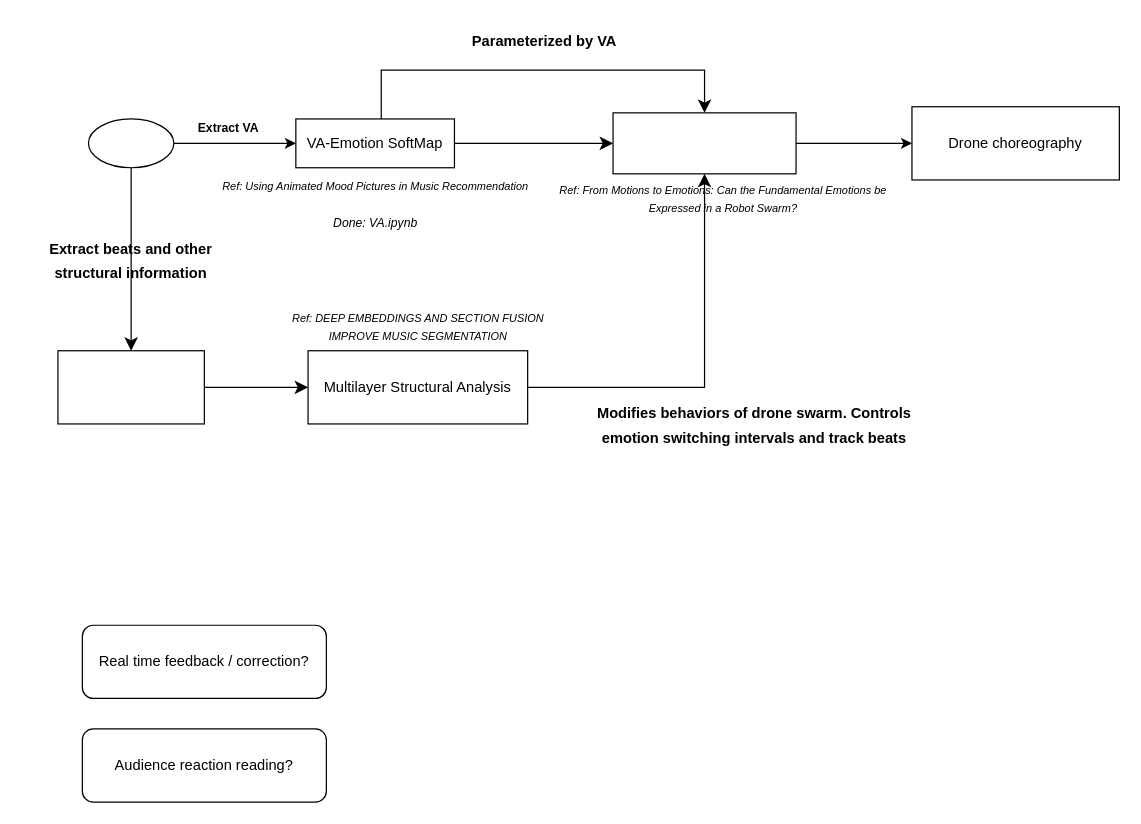
Some shapes in this 1141 by 824 pixel diagram are drawn without their labels. The centre of each missing label's shape, as x and y in pixels:
"Audio File" goes at point 130,143.
"Emotion based Motion primatives" goes at point 704,143.
"Music segmentation" goes at point 130,387.
